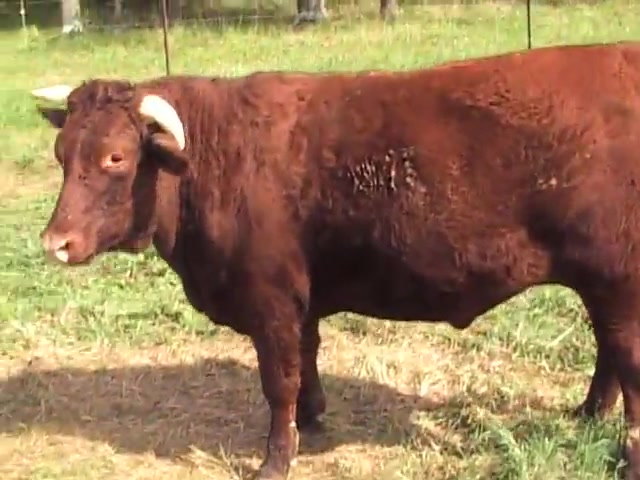cow: (34, 39, 640, 480)
